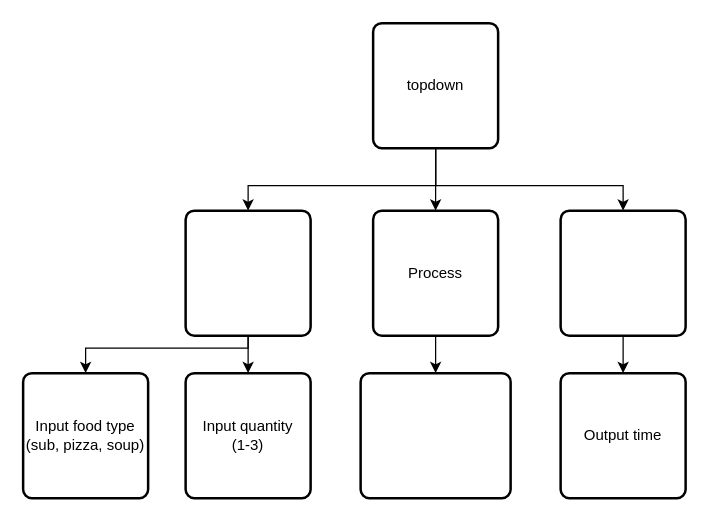
Image size: 708x520. Some labels were removed from this diagram. The box of each missing label's shape, as (x1, y1, x2, y2) in pixels:
calculate time based on food type + 50% for each item beyond the first: (359, 371, 511, 499)
Input: (184, 209, 311, 336)
Output: (559, 209, 686, 336)
